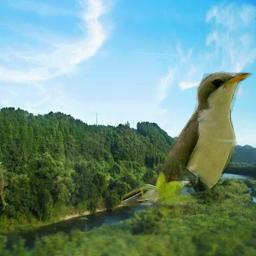Cuckoo: (121, 68, 254, 225)
